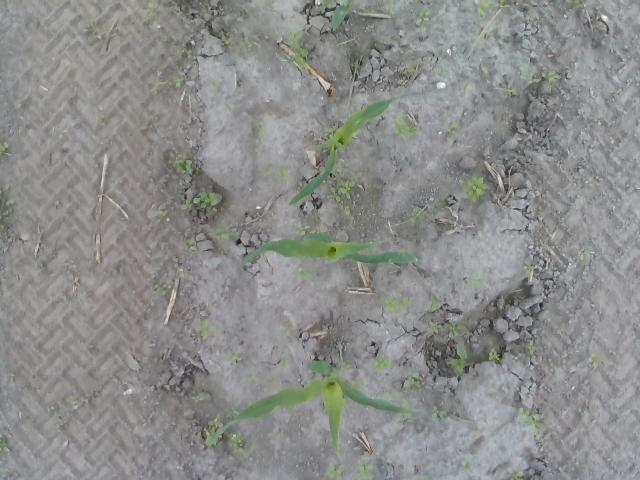Maize: (205, 358, 422, 456), (288, 90, 431, 203), (237, 229, 419, 270), (316, 0, 353, 35)
Weeds: (286, 28, 316, 68), (459, 172, 492, 204), (184, 190, 224, 213), (0, 185, 17, 237), (444, 341, 468, 377), (392, 109, 418, 142), (516, 406, 546, 432), (164, 152, 196, 176), (520, 70, 562, 87), (226, 432, 257, 455), (328, 178, 356, 203), (220, 34, 258, 50), (382, 294, 412, 314), (195, 318, 225, 338), (208, 224, 243, 241), (432, 321, 466, 338), (402, 372, 423, 392), (398, 63, 416, 84), (356, 462, 376, 480), (339, 360, 367, 372), (428, 292, 443, 313), (274, 168, 292, 185), (205, 412, 222, 430), (416, 8, 432, 26), (327, 462, 343, 480), (383, 0, 402, 15), (372, 358, 394, 370), (410, 208, 426, 224), (158, 78, 182, 88), (468, 272, 482, 289), (189, 390, 208, 402), (502, 84, 518, 98), (144, 0, 158, 16), (226, 351, 240, 367), (432, 407, 448, 421), (220, 405, 240, 416), (255, 122, 267, 140), (280, 318, 292, 336), (296, 226, 317, 236), (447, 122, 461, 137), (176, 46, 190, 61), (458, 461, 474, 474), (384, 390, 401, 402), (297, 270, 317, 280), (0, 432, 10, 452), (590, 351, 601, 369), (477, 0, 491, 14), (160, 283, 174, 296), (242, 371, 255, 384), (488, 349, 500, 363), (0, 142, 9, 160), (260, 380, 276, 390), (348, 378, 368, 386), (526, 341, 536, 356), (566, 0, 582, 9), (210, 79, 223, 90), (400, 399, 414, 409), (274, 429, 286, 440), (585, 177, 595, 190), (406, 473, 424, 480), (509, 472, 524, 480), (498, 0, 512, 8), (14, 98, 24, 108), (183, 238, 193, 248), (280, 356, 288, 368), (462, 83, 472, 92), (524, 264, 533, 274), (520, 60, 530, 68), (560, 323, 568, 333), (580, 247, 590, 255)
